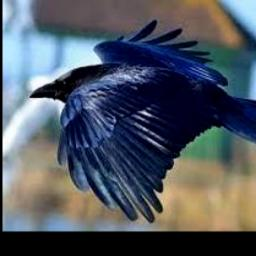Crow: (29, 19, 256, 223)
